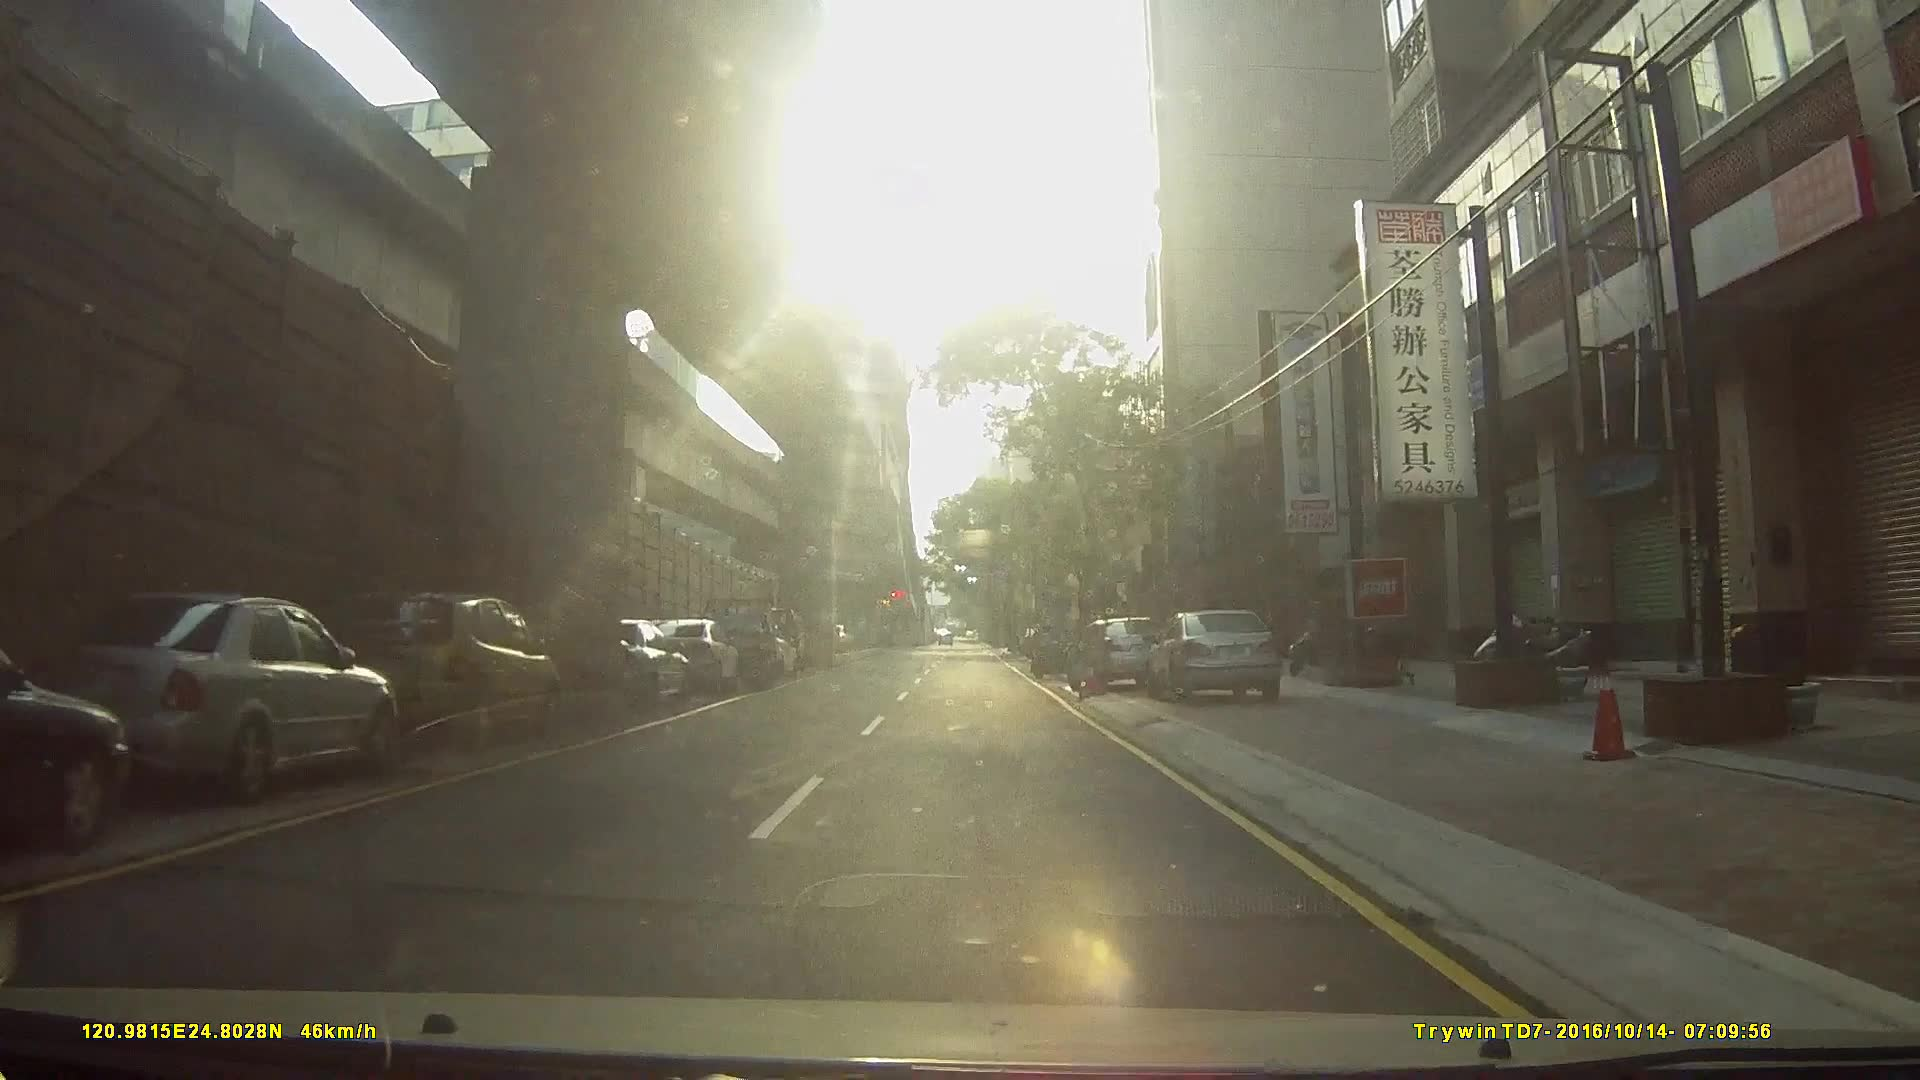rider: (1029, 625, 1073, 679)
vehicle: (28, 590, 379, 811), (303, 586, 553, 757), (1, 642, 139, 861), (1146, 607, 1290, 708), (575, 616, 689, 713), (693, 594, 780, 688), (1068, 614, 1171, 692), (639, 616, 740, 692)
